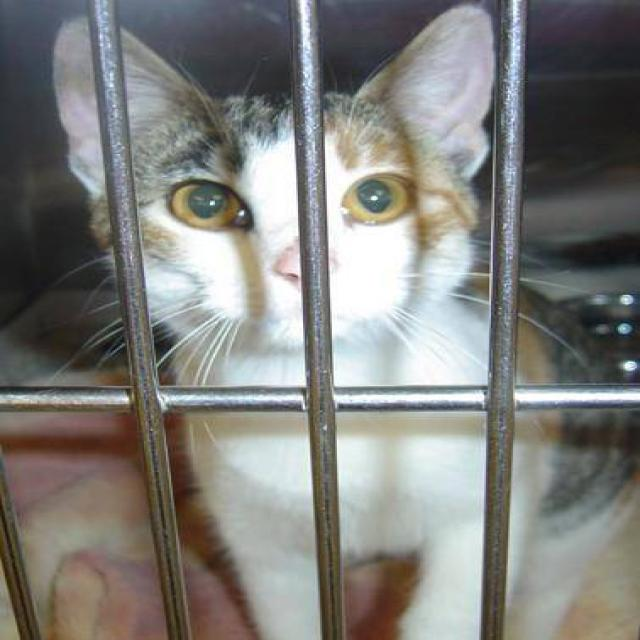cat: (41, 0, 638, 639)
